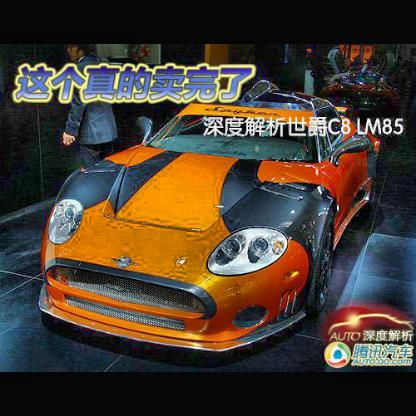Spyker C8 Convertible 2009: (39, 79, 394, 355)
